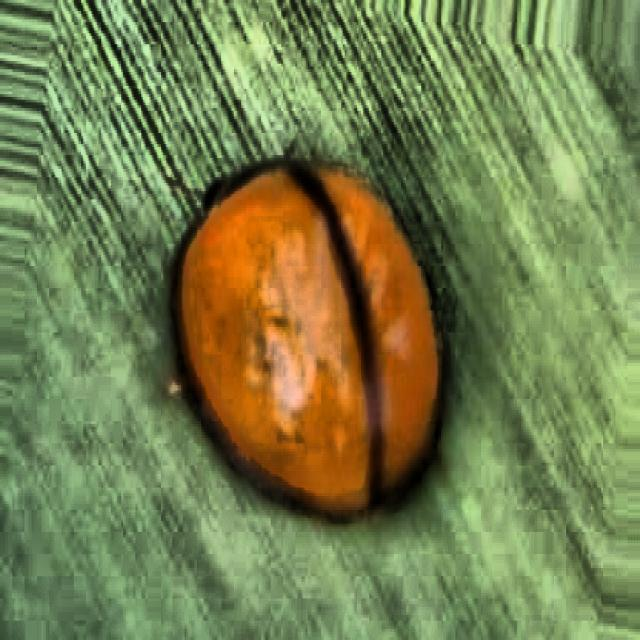Ladybug: (156, 132, 456, 559)
